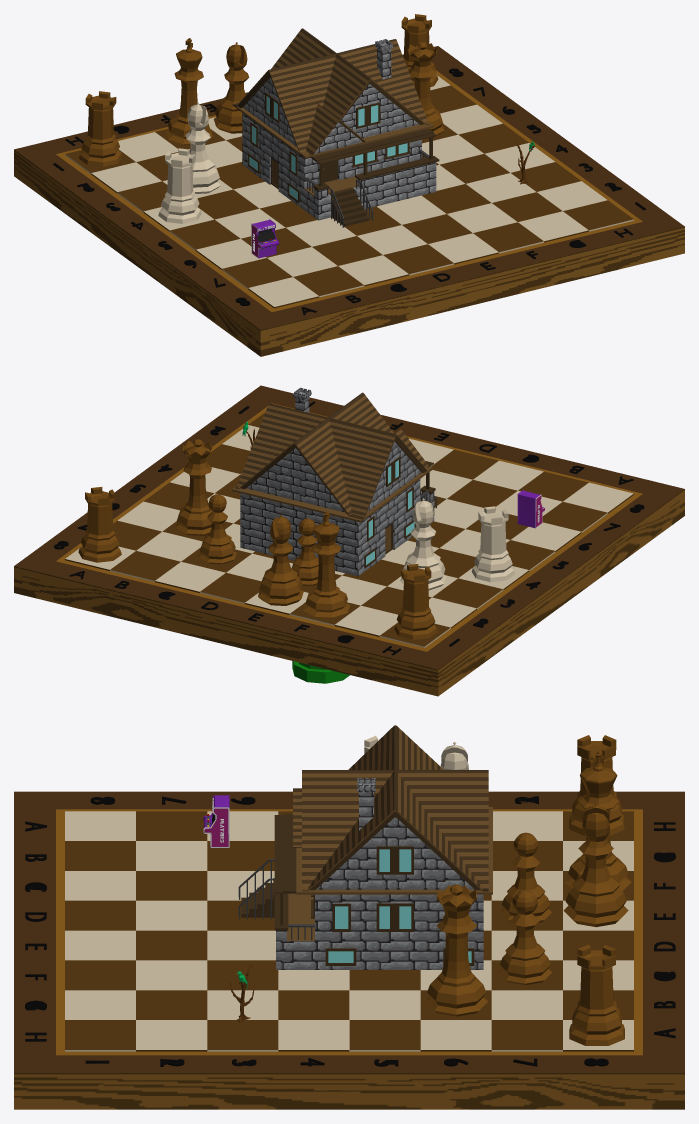
3 renders of one model, top to bottom at view 1: azimuth 30°, elevation 25°; view 2: azimuth 150°, elevation 25°; view 3: azimuth 270°, elevation 25°, orthographic. The views are drawn at different scales.
Visible parts, largest first — view 1: Cube.002, Cube.586, OBJRANDOM_ARCADE; view 2: Cube.002, Cube.586, OBJRANDOM_ARCADE, UNDERGROUND_PIPES; view 3: Cube.002, Cube.586, OBJRANDOM_ARCADE.
Part boxes in pixels (x1=…): Cube.002: x1=14, y1=14, x2=684, y2=356; Cube.586: x1=232, y1=28, x2=439, y2=227; OBJRANDOM_ARCADE: x1=251, y1=219, x2=279, y2=258; Cube.002: x1=14, y1=385, x2=684, y2=696; Cube.586: x1=232, y1=387, x2=436, y2=576; OBJRANDOM_ARCADE: x1=517, y1=490, x2=545, y2=528; UNDERGROUND_PIPES: x1=292, y1=661, x2=349, y2=683; Cube.002: x1=14, y1=735, x2=684, y2=1109; Cube.586: x1=238, y1=725, x2=492, y2=969; OBJRANDOM_ARCADE: x1=203, y1=795, x2=229, y2=847.
Size of the model in its own units: 3981 by 2077 by 4012.
30 materials, 3 textured.
